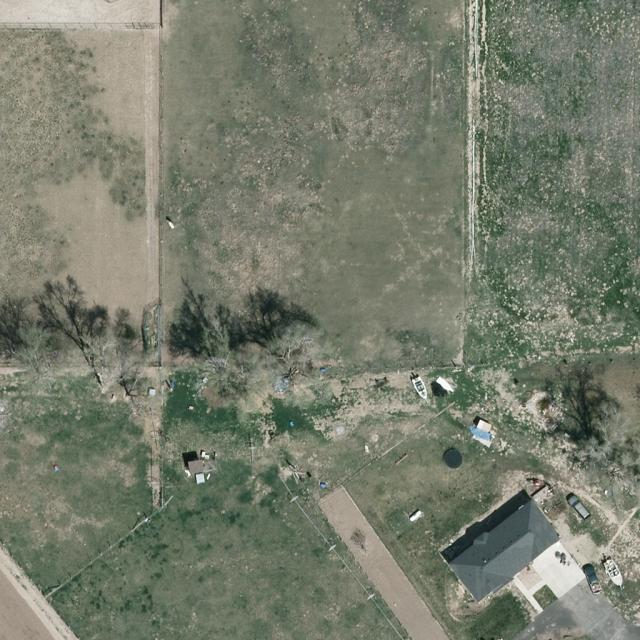vehicle: (581, 564, 603, 594), (566, 497, 594, 519)
